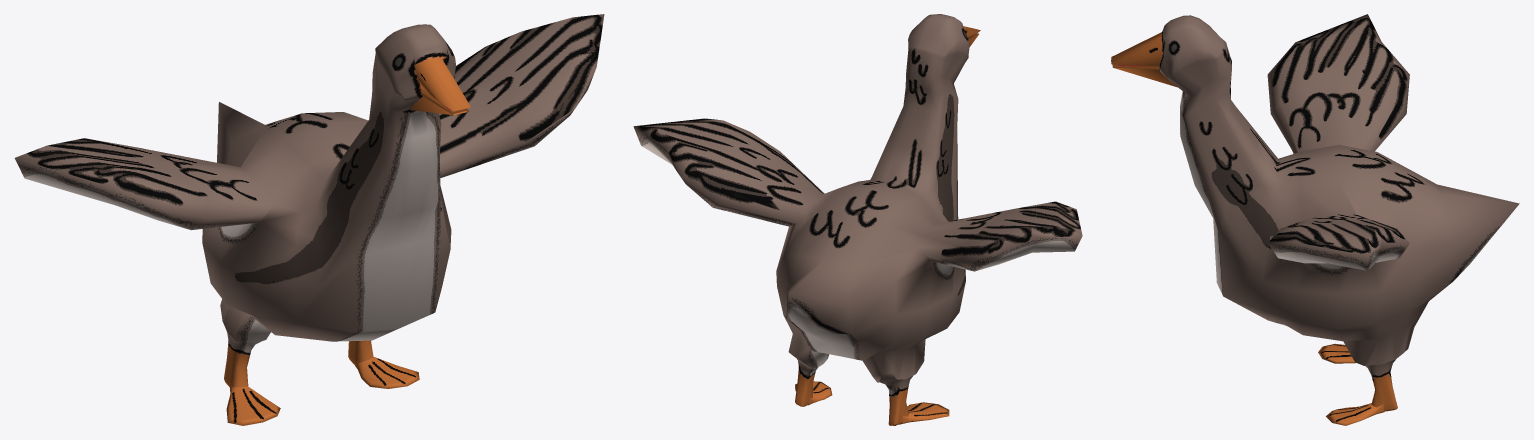
File: goose.fbx
The picture shows the model from 3 angles, left to right: view 1: azimuth 30°, elevation 25°; view 2: azimuth 150°, elevation 25°; view 3: azimuth 270°, elevation 25°; orthographic projection. The views are drawn at different scales.
Parts seen in each view (by area): view 1: pCube1; view 2: pCube1; view 3: pCube1.
Part boxes in pixels (x1,y1,x2,y2): pCube1: [14, 14, 604, 425]; pCube1: [633, 14, 1082, 425]; pCube1: [1111, 14, 1519, 425].
Bounding box in the file's own units: 24.19 × 17.24 × 17.29.
